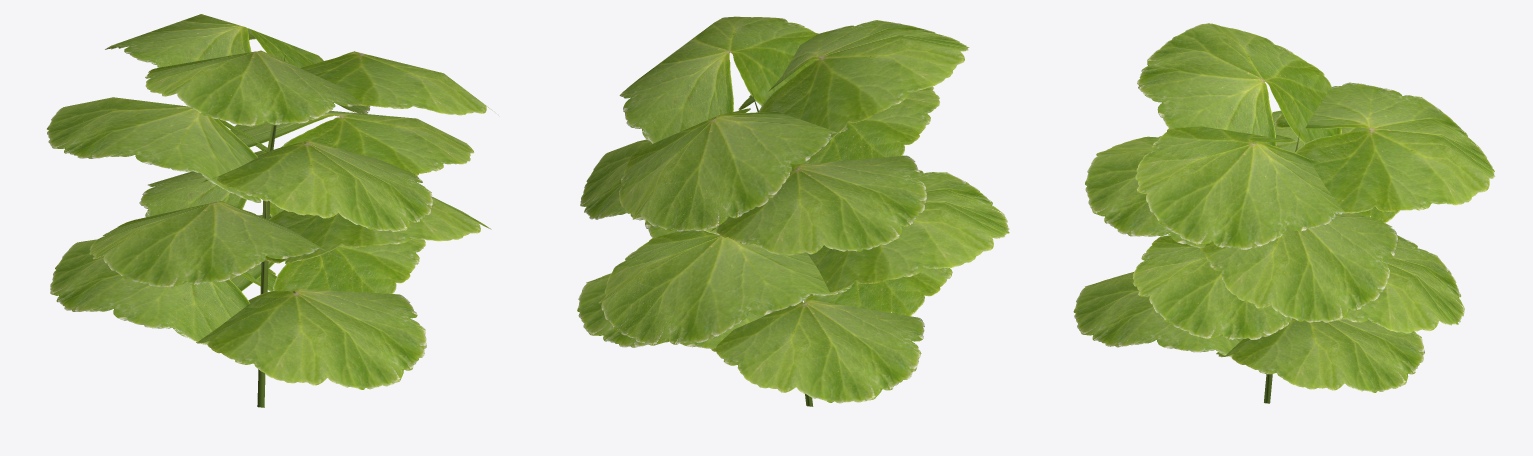
Rendered from plant_003.dae.
The picture shows the model from 3 angles, left to right: view 1: azimuth 30°, elevation 25°; view 2: azimuth 150°, elevation 25°; view 3: azimuth 270°, elevation 25°; orthographic projection. The views are drawn at different scales.
Parts seen in each view (by area): view 1: Plant_003; view 2: Plant_003; view 3: Plant_003.
Part boxes in pixels (box(x1,y1,x2,y2)): Plant_003: box(47, 14, 492, 407); Plant_003: box(577, 16, 1009, 406); Plant_003: box(1073, 23, 1495, 403).
Bounding box in the file's own units: 4.49 × 3.51 × 4.42.
